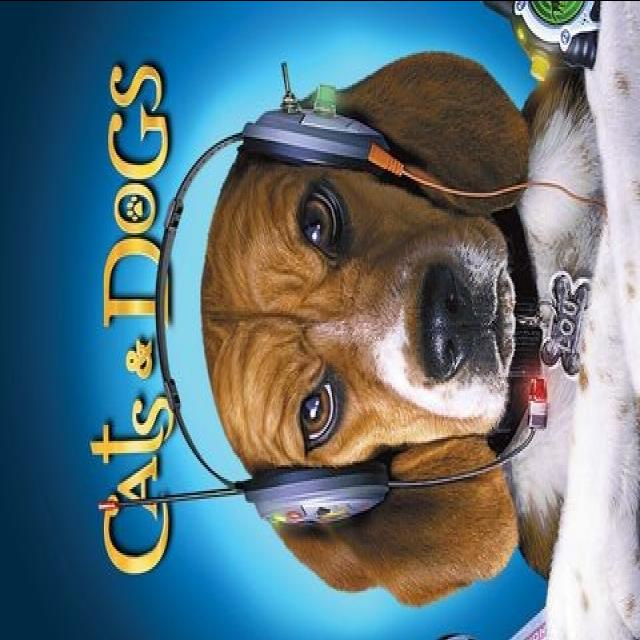dog: (200, 42, 640, 616)
